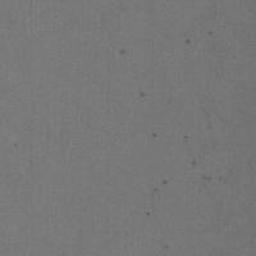Inclusion: (161, 243, 169, 256), (200, 175, 212, 182), (184, 37, 192, 46), (119, 49, 127, 58), (145, 210, 151, 219), (207, 29, 214, 36), (13, 140, 19, 147)
